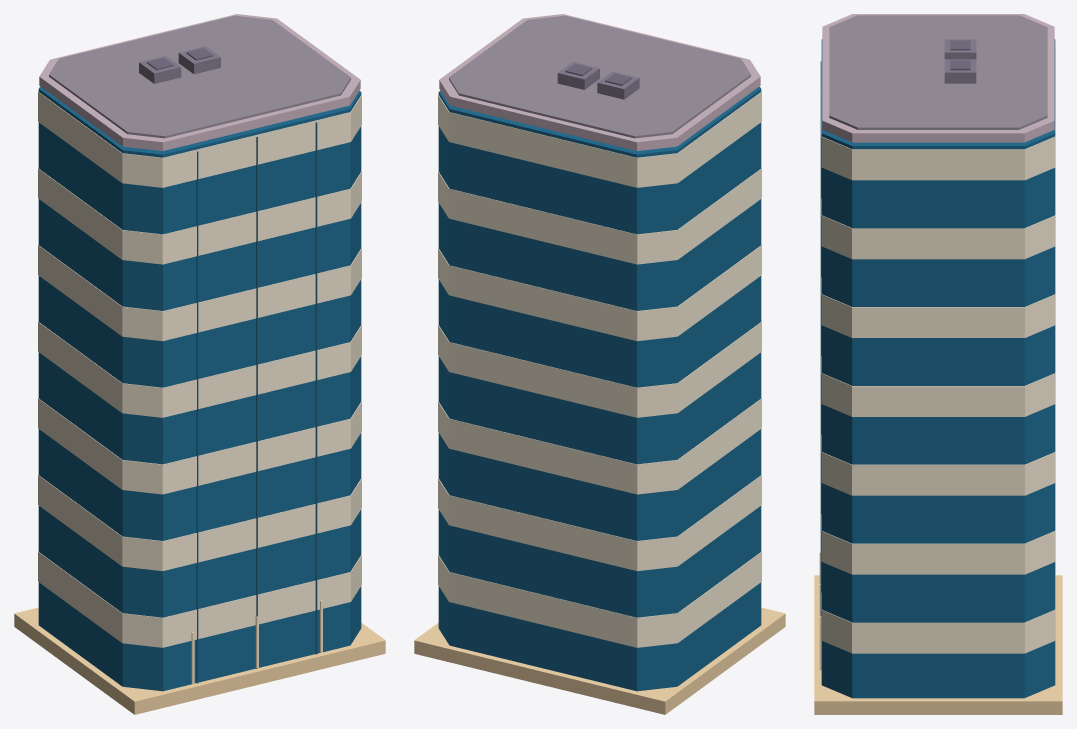
File: Building_Blue_White_Octagonal.glb
3 views of the same model, side by side, from view 1: azimuth 30°, elevation 25°; view 2: azimuth 150°, elevation 25°; view 3: azimuth 270°, elevation 25° (orthographic). The views are drawn at different scales.
Visible parts, largest first — view 1: Building_Blue_White_Octagonal; view 2: Building_Blue_White_Octagonal; view 3: Building_Blue_White_Octagonal.
Part boxes in pixels (x1=…): Building_Blue_White_Octagonal: x1=14, y1=14, x2=385, y2=714; Building_Blue_White_Octagonal: x1=414, y1=14, x2=785, y2=714; Building_Blue_White_Octagonal: x1=814, y1=14, x2=1062, y2=714.
Bounding box in the file's own units: 4.75 × 10.41 × 3.95.
